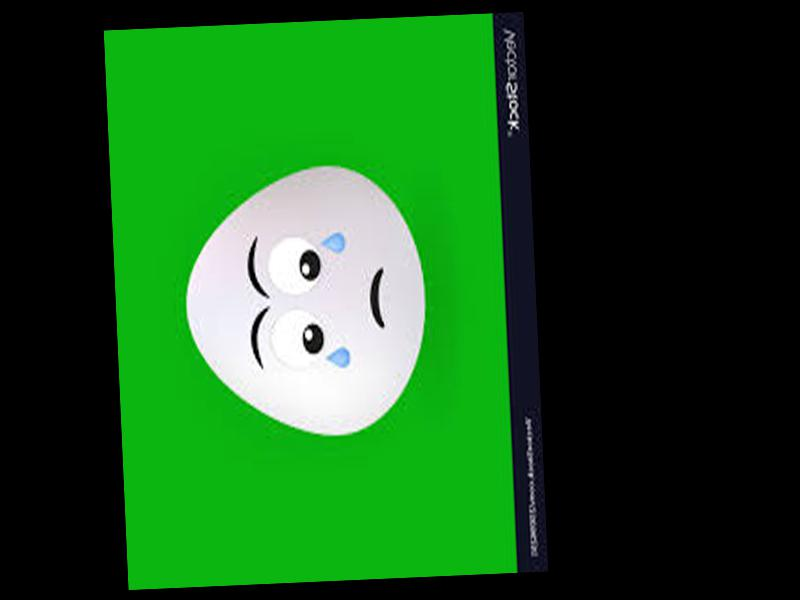Eggs: (182, 159, 430, 439)
